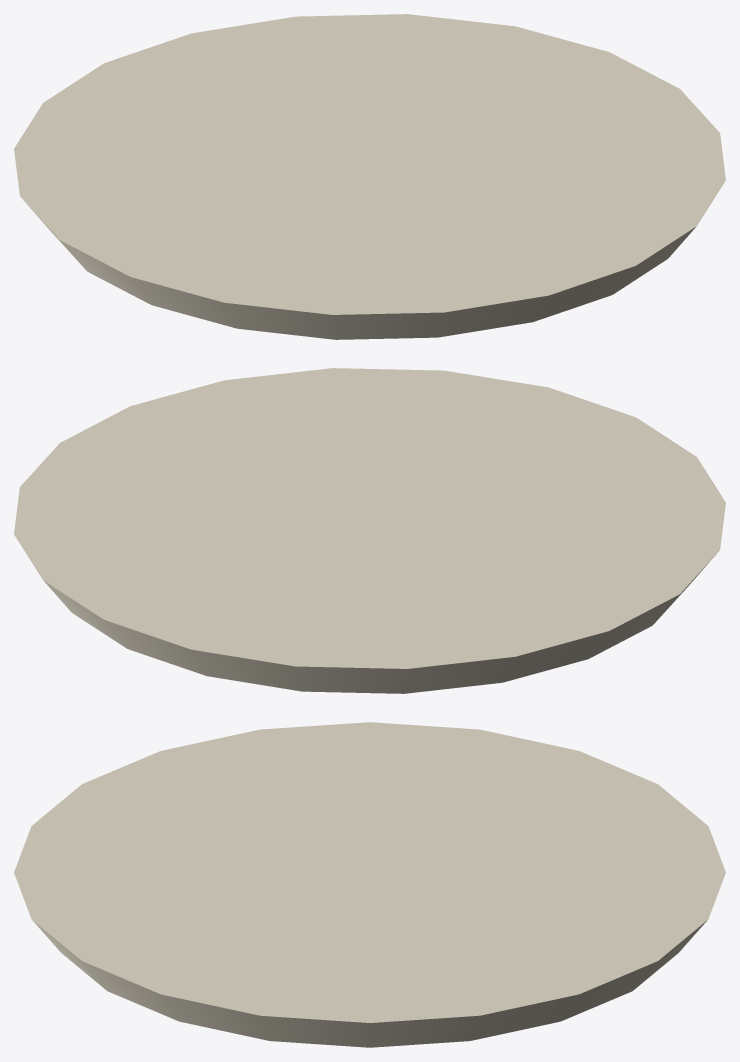
File: plate.glb
3 views of the same model, one above another, from view 1: azimuth 30°, elevation 25°; view 2: azimuth 150°, elevation 25°; view 3: azimuth 270°, elevation 25° (orthographic).
Parts seen in each view (by area): view 1: plate; view 2: plate; view 3: plate.
Boxes of the visible parts, x1=… form: plate: x1=14, y1=14, x2=725, y2=339; plate: x1=14, y1=368, x2=725, y2=693; plate: x1=14, y1=722, x2=725, y2=1047.
Bounding box in the file's own units: 0.68 × 0.04 × 0.68.
